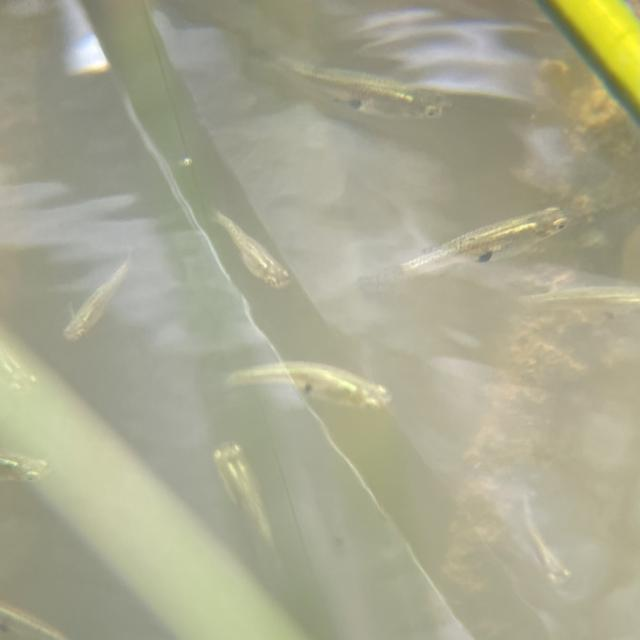Sivrisinek Baligi: (353, 198, 562, 304), (274, 50, 444, 125), (202, 428, 288, 570), (225, 357, 392, 415), (58, 242, 144, 349), (211, 204, 293, 302)
